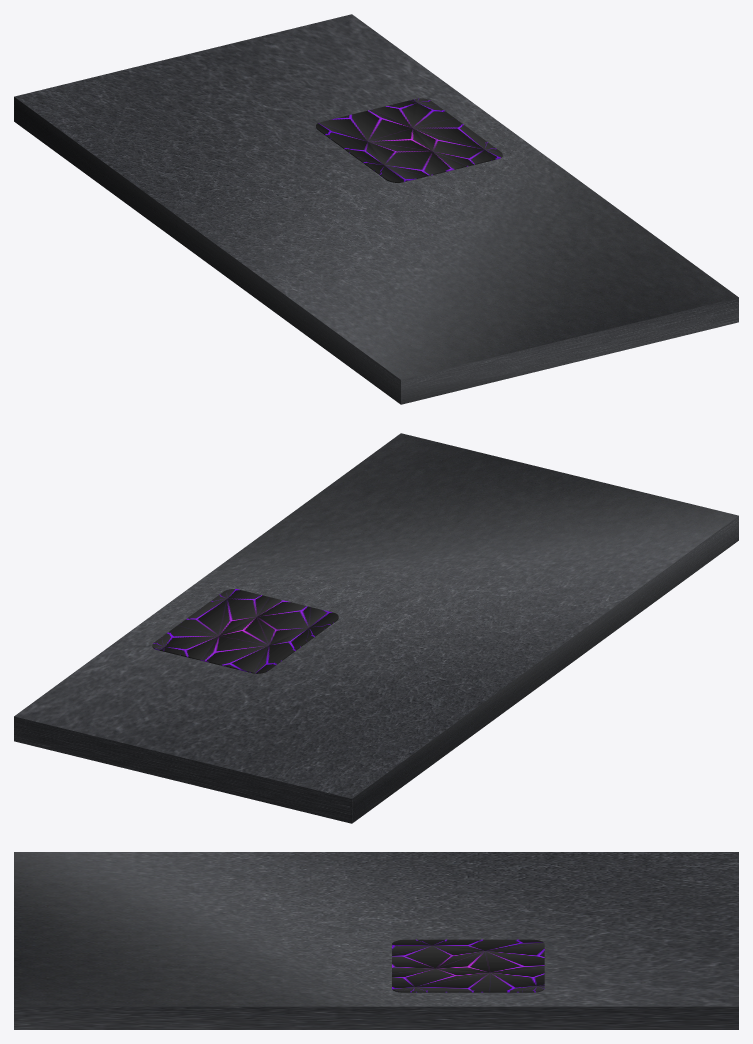
The model's file is table.glb.
The picture shows the model from 3 angles, top to bottom: view 1: azimuth 30°, elevation 25°; view 2: azimuth 150°, elevation 25°; view 3: azimuth 270°, elevation 25°; orthographic projection. The views are drawn at different scales.
Visible parts, largest first — view 1: Cube, Plane; view 2: Cube, Plane; view 3: Cube, Plane.
Boxes of the visible parts, x1=… form: Cube: x1=14, y1=14, x2=738, y2=404; Plane: x1=316, y1=98, x2=502, y2=182; Cube: x1=14, y1=433, x2=738, y2=823; Plane: x1=152, y1=589, x2=338, y2=673; Cube: x1=14, y1=852, x2=738, y2=1029; Plane: x1=392, y1=939, x2=544, y2=992.
Bounding box in the file's own units: 7.38 × 0.5396 × 14.63.
Materials: 2 (2 with a texture image).
